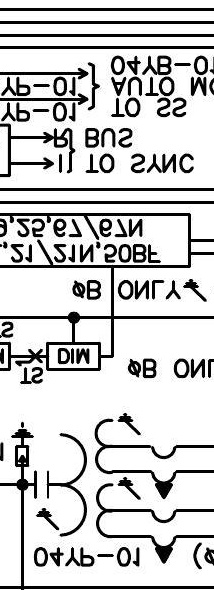115_cvt_1p: (33, 412, 179, 564)
115_la: (10, 421, 35, 467)
DIM: (46, 341, 101, 371)
